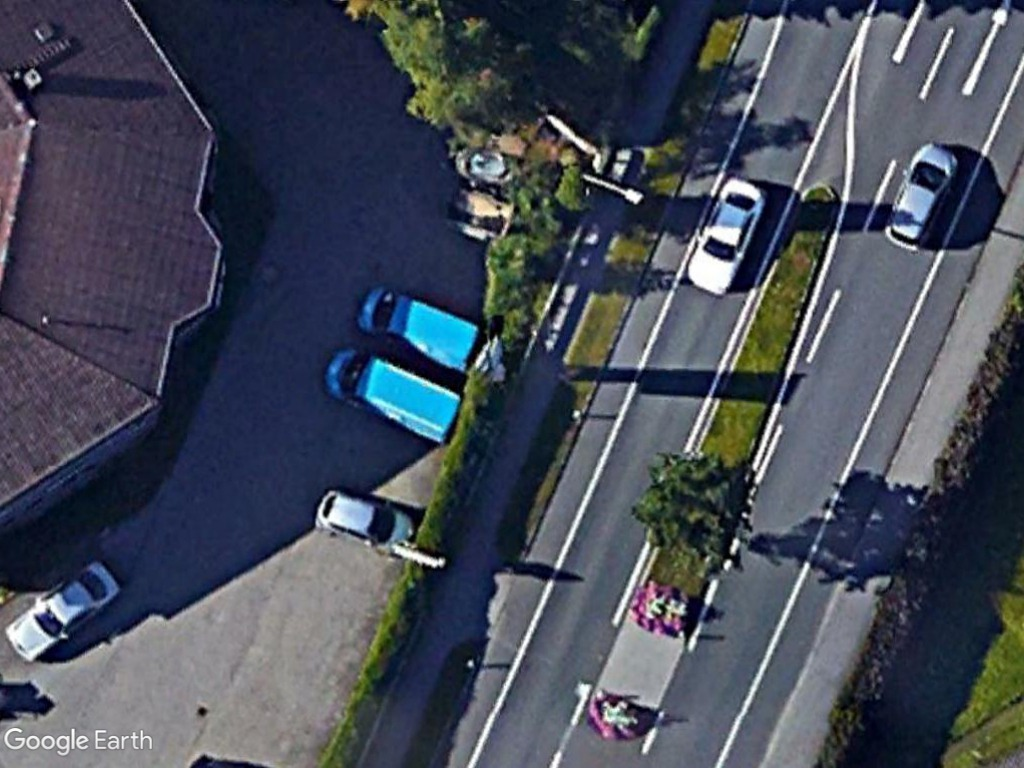car: (5, 557, 125, 665), (683, 174, 770, 299), (881, 138, 960, 253), (312, 485, 416, 557)
van: (321, 343, 464, 443), (357, 282, 484, 376)
